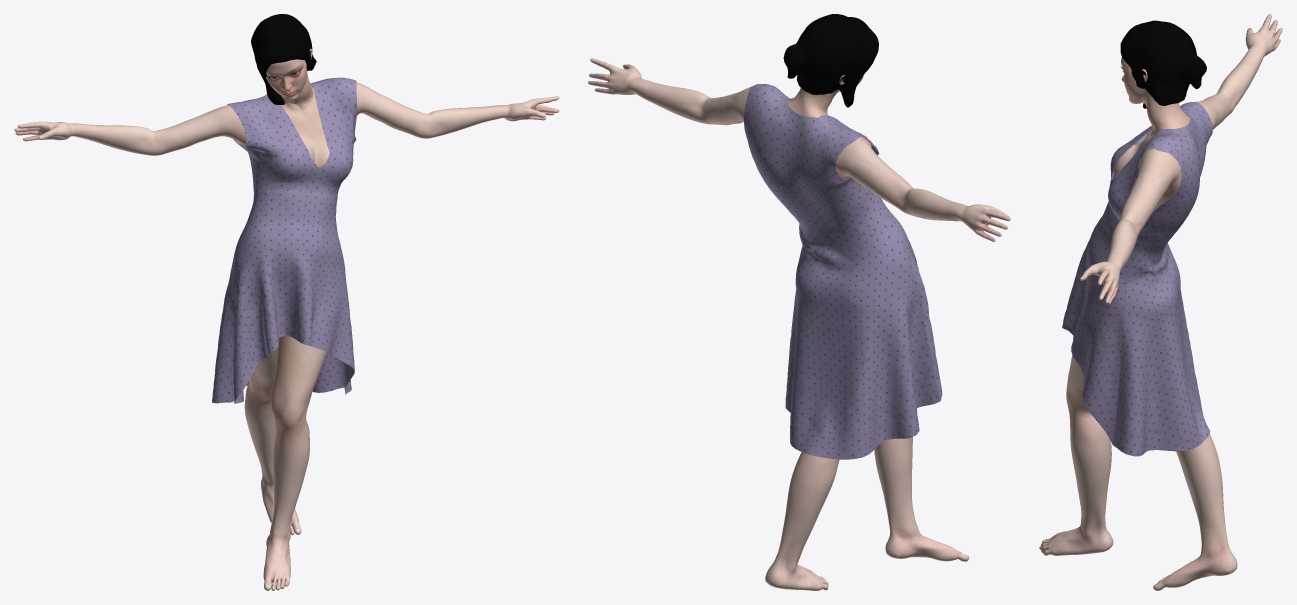
File: Custom_View_6__Dynamic_2.obj
3 views of the same model, side by side, from view 1: azimuth 30°, elevation 25°; view 2: azimuth 150°, elevation 25°; view 3: azimuth 270°, elevation 25° (orthographic). The views are drawn at different scales.
Bounding box in the file's own units: 1601 × 1717 × 679.
